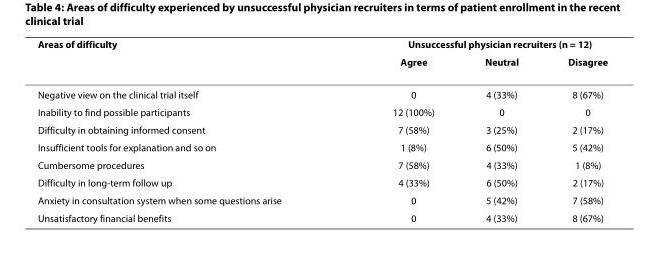table: (36, 37, 607, 223)
table column: (36, 37, 336, 223), (336, 37, 459, 223), (459, 37, 542, 223), (542, 37, 607, 223)
table column header: (36, 37, 607, 77)
table row: (36, 52, 607, 77), (36, 77, 607, 102), (36, 102, 607, 120), (36, 137, 607, 155), (36, 155, 607, 173), (36, 190, 607, 208), (36, 120, 607, 137), (36, 173, 607, 190), (36, 37, 607, 52), (36, 208, 607, 223)
table spanning cell: (36, 37, 336, 77), (336, 37, 607, 52)
